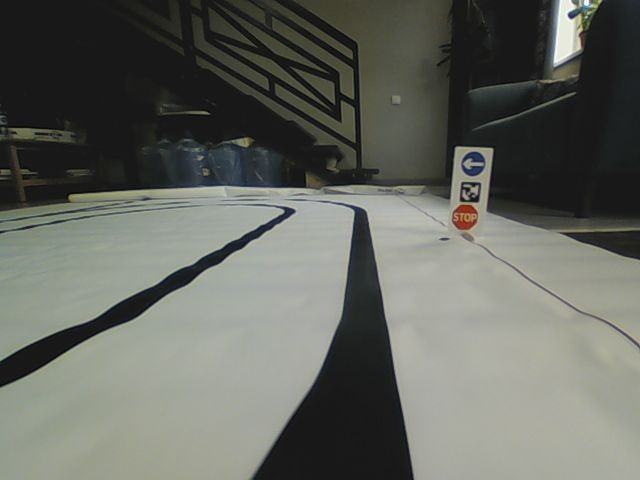Stop: (450, 203, 479, 230)
